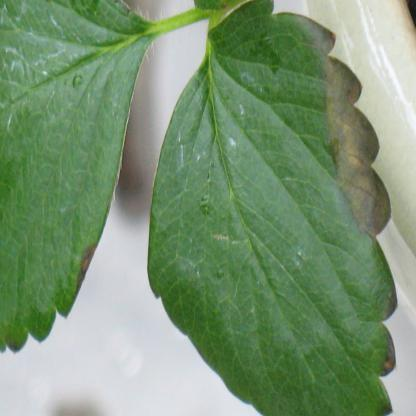strawberry leaf: (151, 8, 391, 416)
